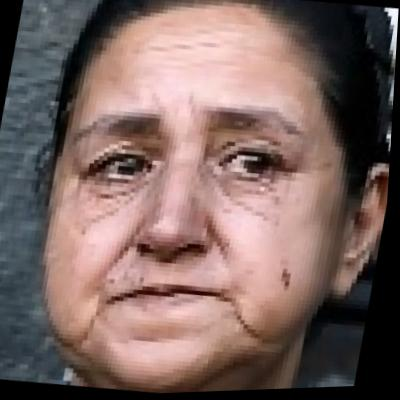sad: (31, 8, 359, 396)
